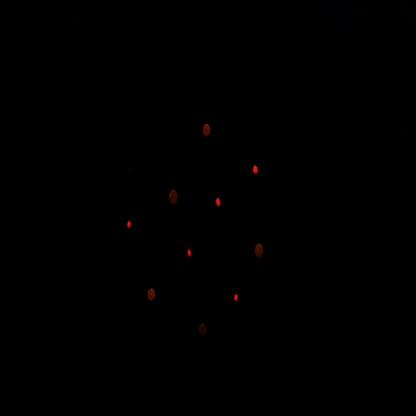PET: (121, 209, 140, 242), (227, 281, 246, 312), (248, 157, 265, 186), (183, 241, 200, 268), (212, 190, 227, 212)
PS: (143, 283, 158, 313), (196, 315, 211, 344), (167, 185, 182, 208), (253, 239, 267, 263), (202, 118, 214, 143)
